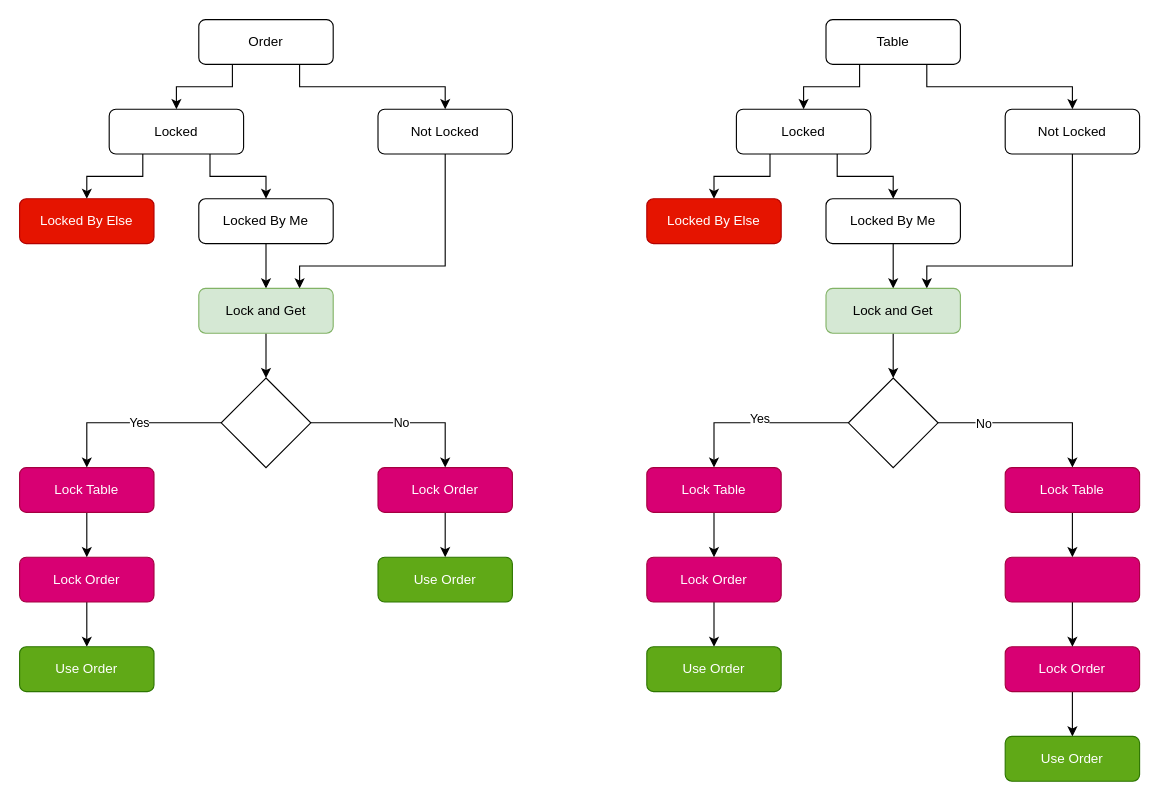
The diagram is 1159 pixels wide and 801 high, and some of its shapes have lost their labels. The centre of each missing label's shape, as x and y in pixels:
Create New Order: the point at 1072,579
Has Order: the point at 892,422
Is Sitin Order: the point at 265,422
